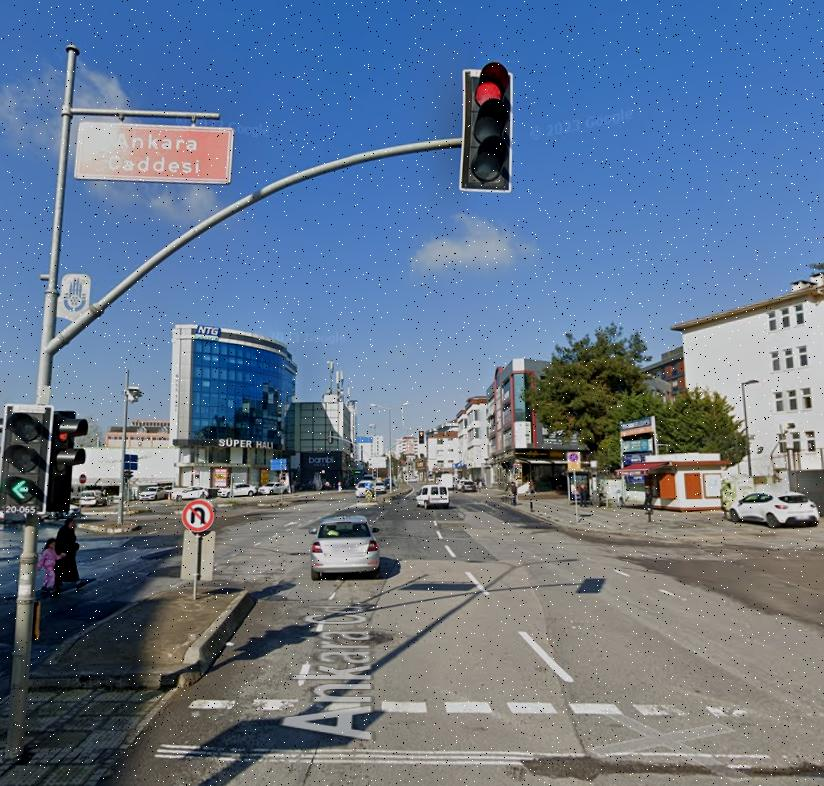greenlight: (2, 404, 45, 502)
redlight: (465, 63, 512, 189)
